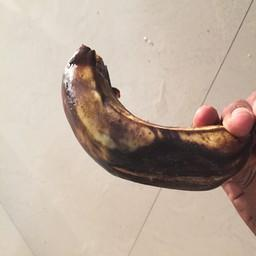Bad_banana: (59, 35, 241, 191)
